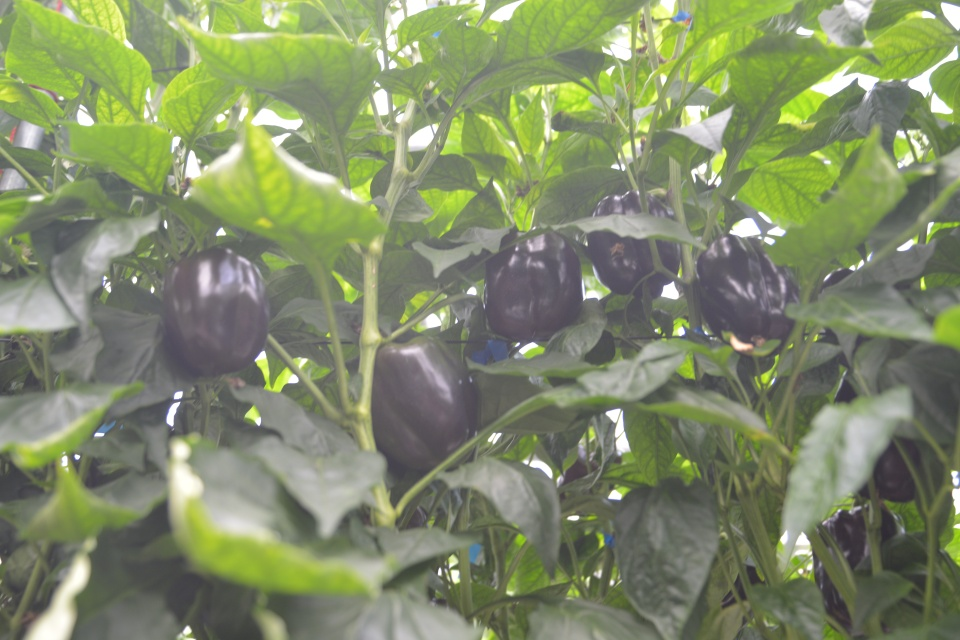fruit: (370, 333, 480, 472), (159, 244, 272, 379), (810, 503, 907, 638), (696, 233, 799, 360), (482, 228, 585, 340), (835, 377, 921, 504), (585, 194, 682, 303), (557, 442, 622, 513), (721, 563, 766, 634)
